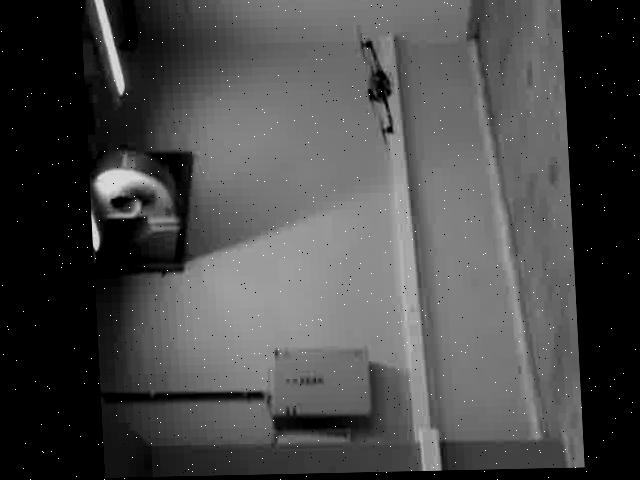drone: (349, 18, 410, 151)
